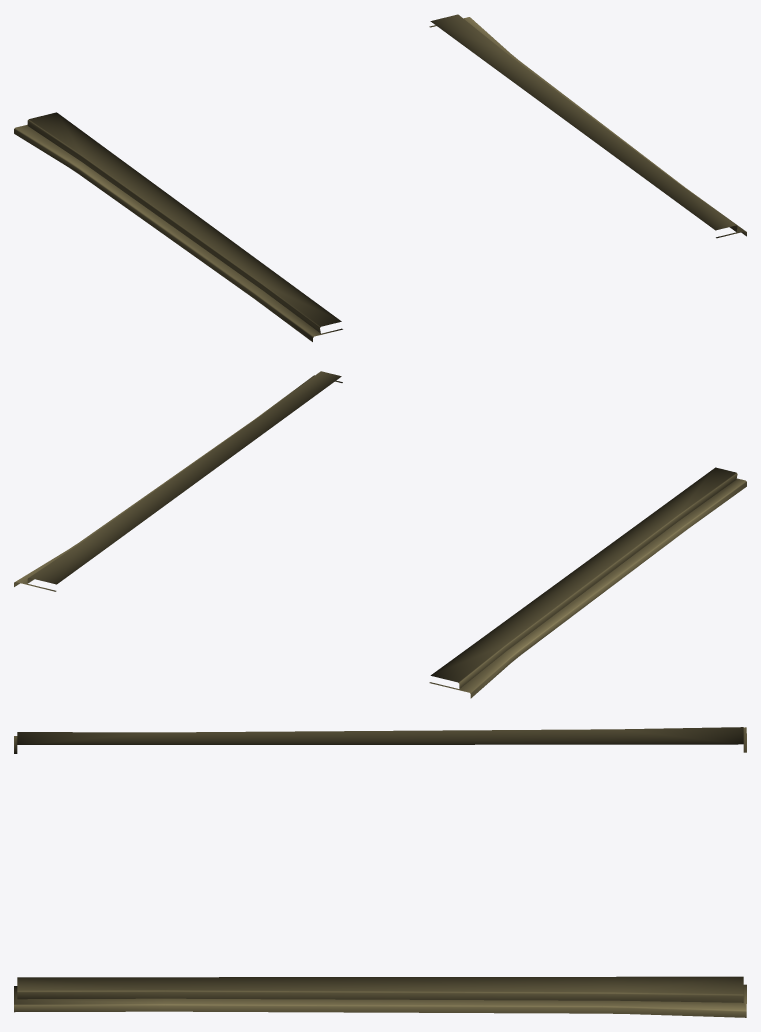
File: MX5_SideSkirt02_Duco.fbx
The picture shows the model from 3 angles, top to bottom: view 1: azimuth 30°, elevation 25°; view 2: azimuth 150°, elevation 25°; view 3: azimuth 270°, elevation 25°; orthographic projection. The views are drawn at different scales.
Visible parts, largest first — view 1: MX5_SideSkirt02_Duco; view 2: MX5_SideSkirt02_Duco; view 3: MX5_SideSkirt02_Duco.
Boxes of the visible parts, x1,y1,x2,y2 form: MX5_SideSkirt02_Duco: [14, 14, 746, 341]; MX5_SideSkirt02_Duco: [14, 371, 746, 698]; MX5_SideSkirt02_Duco: [14, 727, 746, 1017].
Bounding box in the file's own units: 160 × 4.42 × 175.
